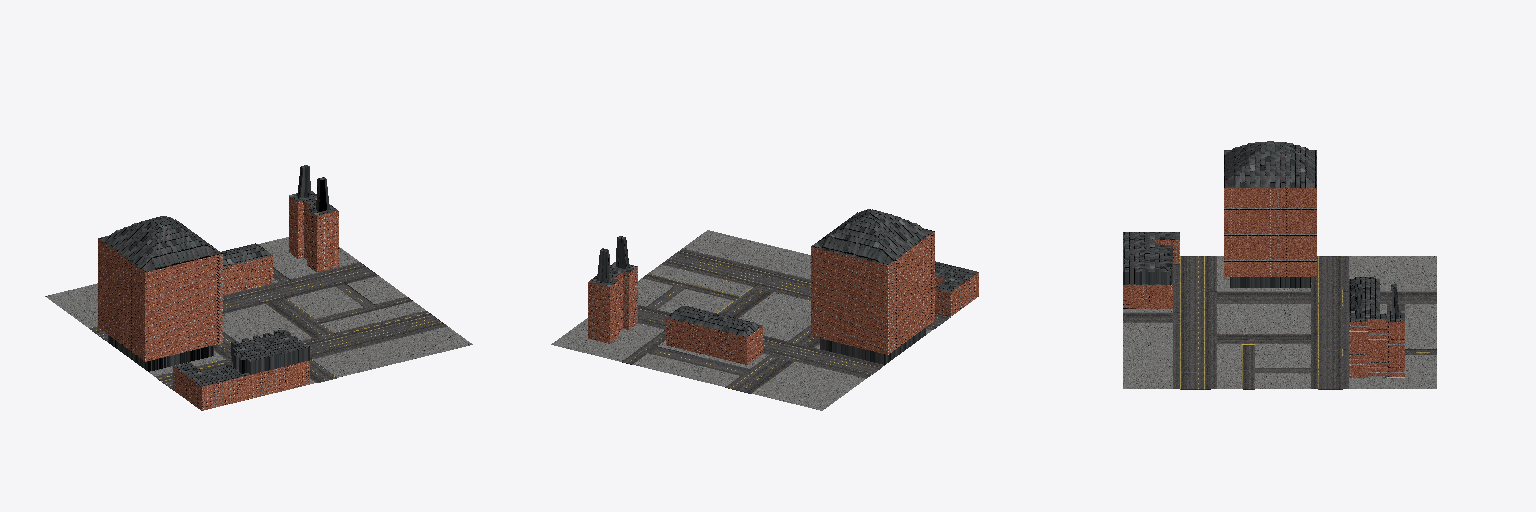
3 renders of one model, left to right at view 1: azimuth 30°, elevation 25°; view 2: azimuth 150°, elevation 25°; view 3: azimuth 270°, elevation 25°, orthographic.
Parts seen in each view (by area): view 1: city_object; view 2: city_object; view 3: city_object.
Part boxes in pixels (x1,y1,x2,y2): city_object: (45, 165, 472, 410); city_object: (551, 209, 978, 410); city_object: (1123, 141, 1436, 389).
Size of the model in its own units: 102 by 46.32 by 100.
Materials: 5 (4 with a texture image).